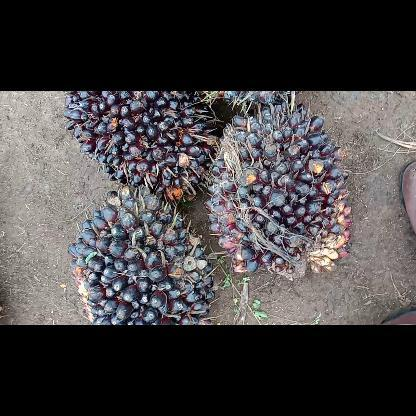TBS mentah: (204, 101, 356, 285), (64, 182, 216, 324), (59, 91, 223, 201)
